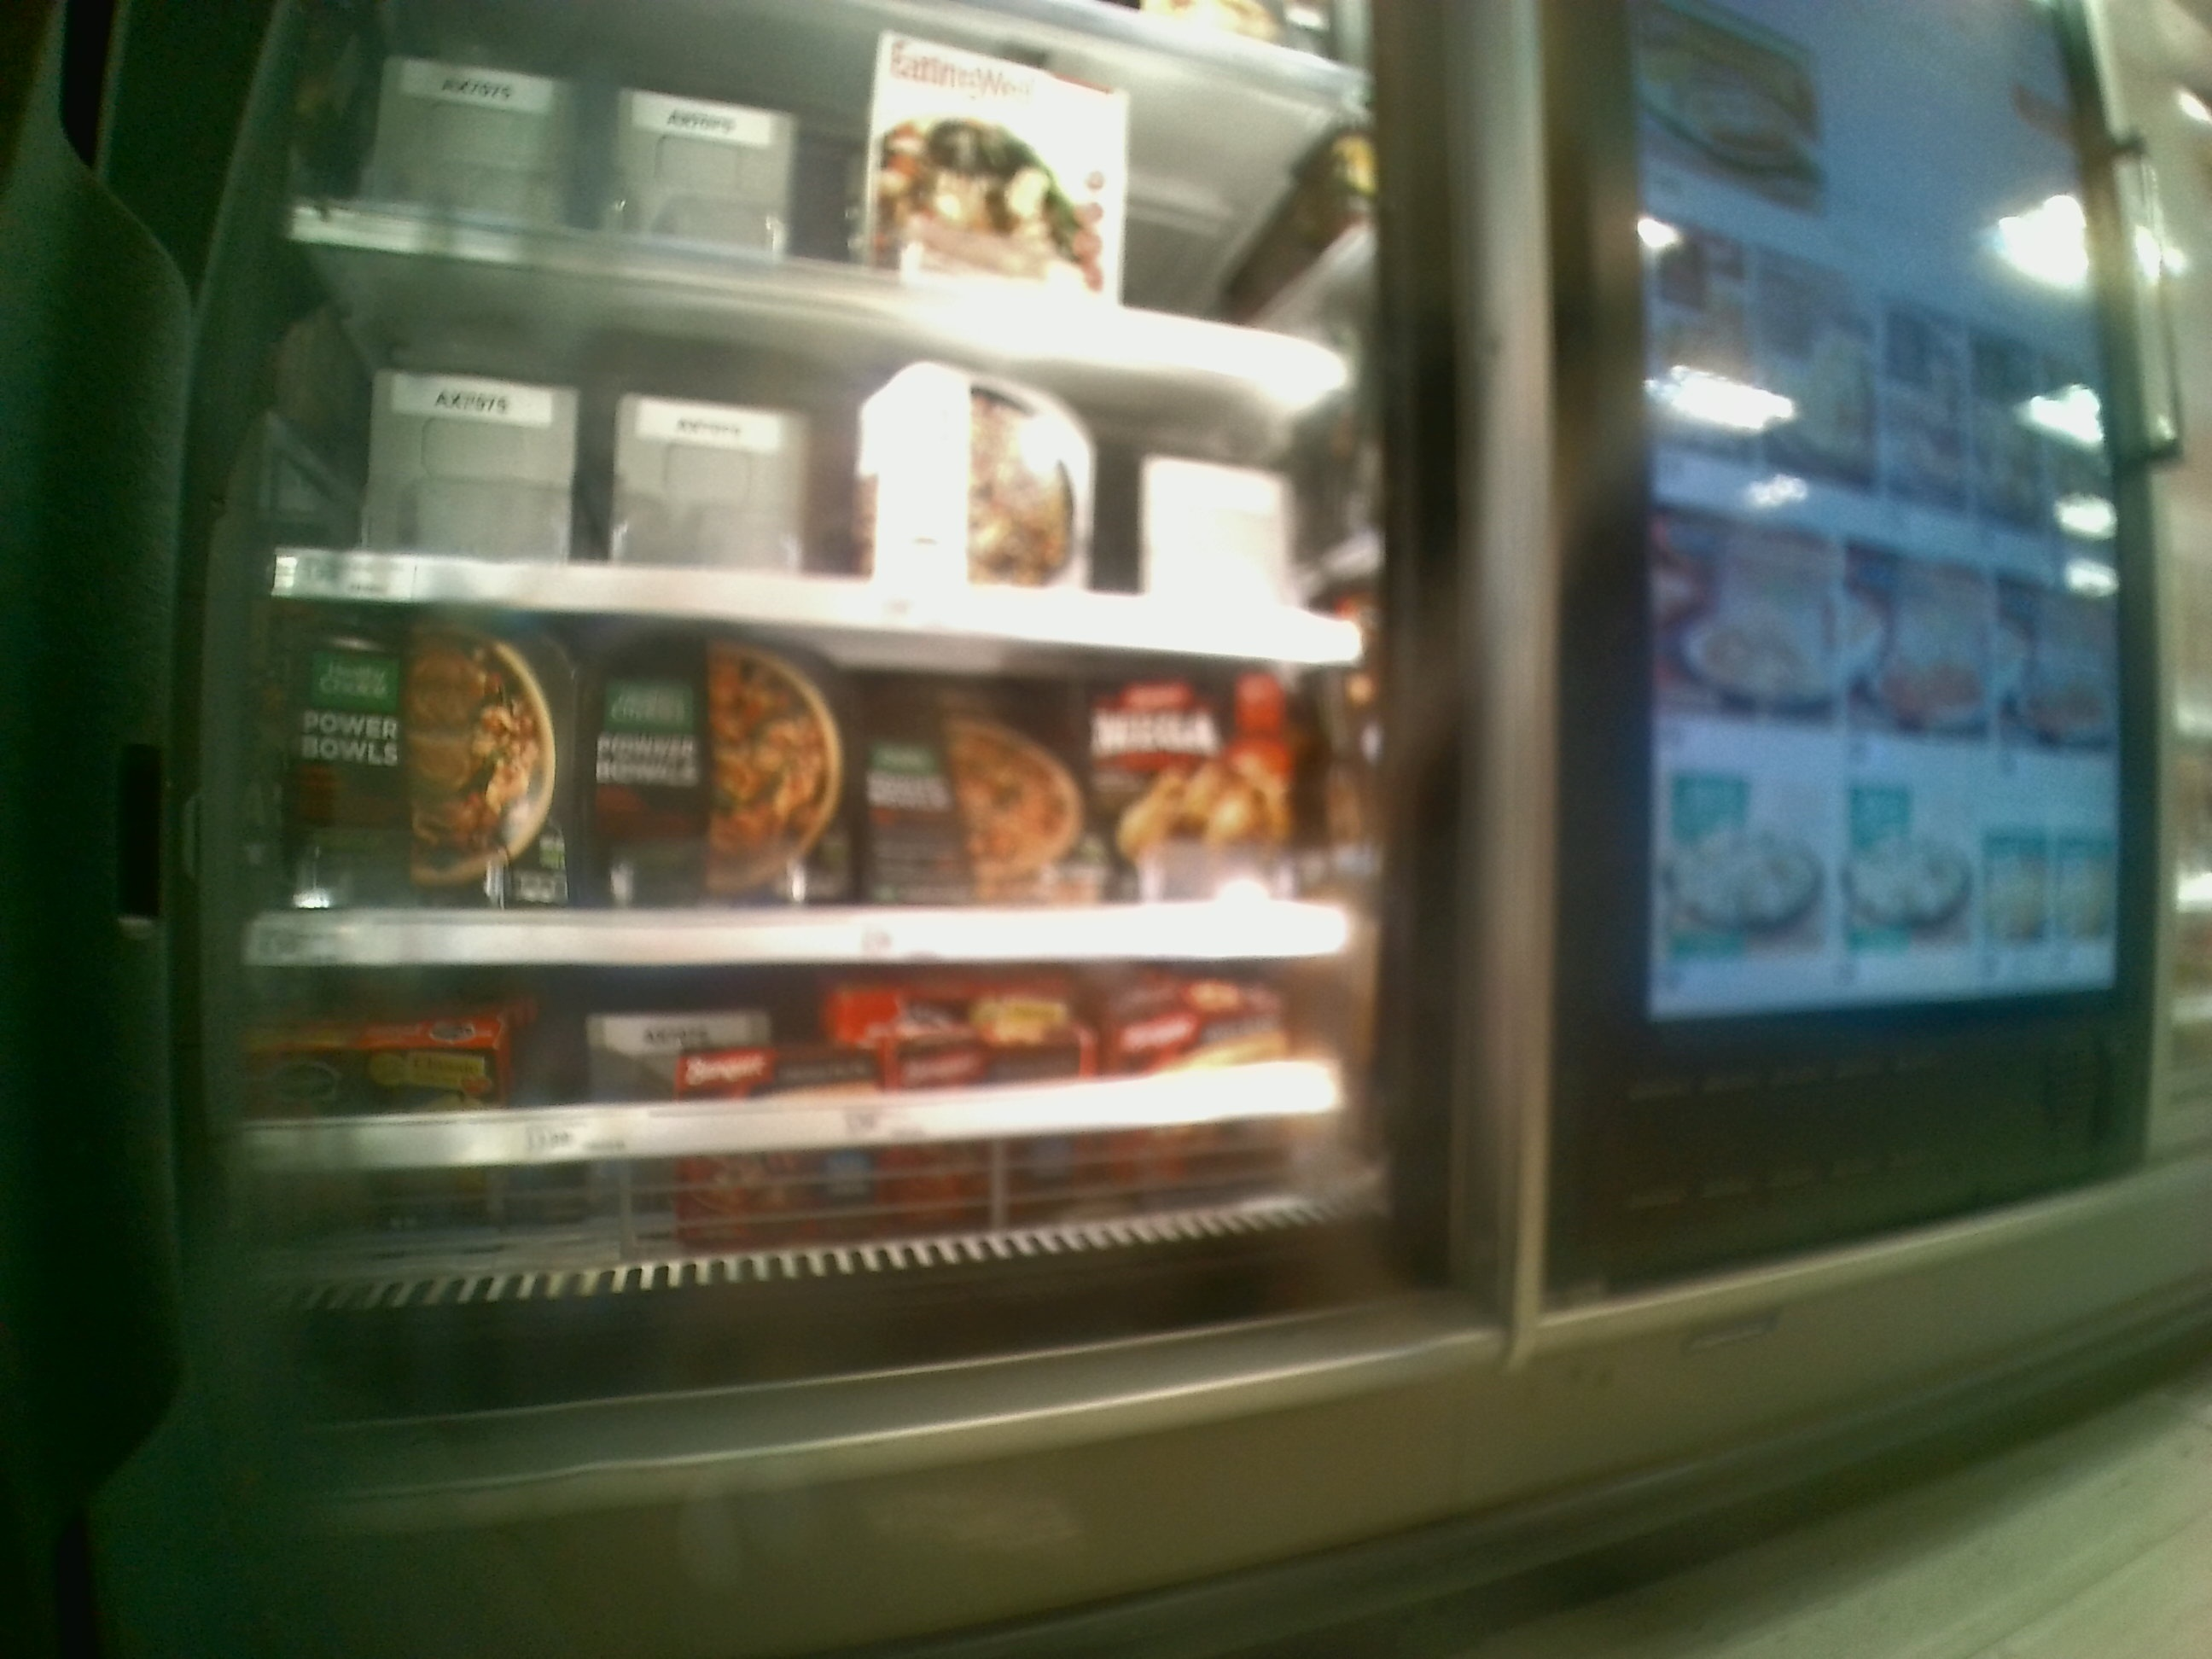Shelf: (263, 587, 1360, 962), (239, 958, 1388, 1279)
